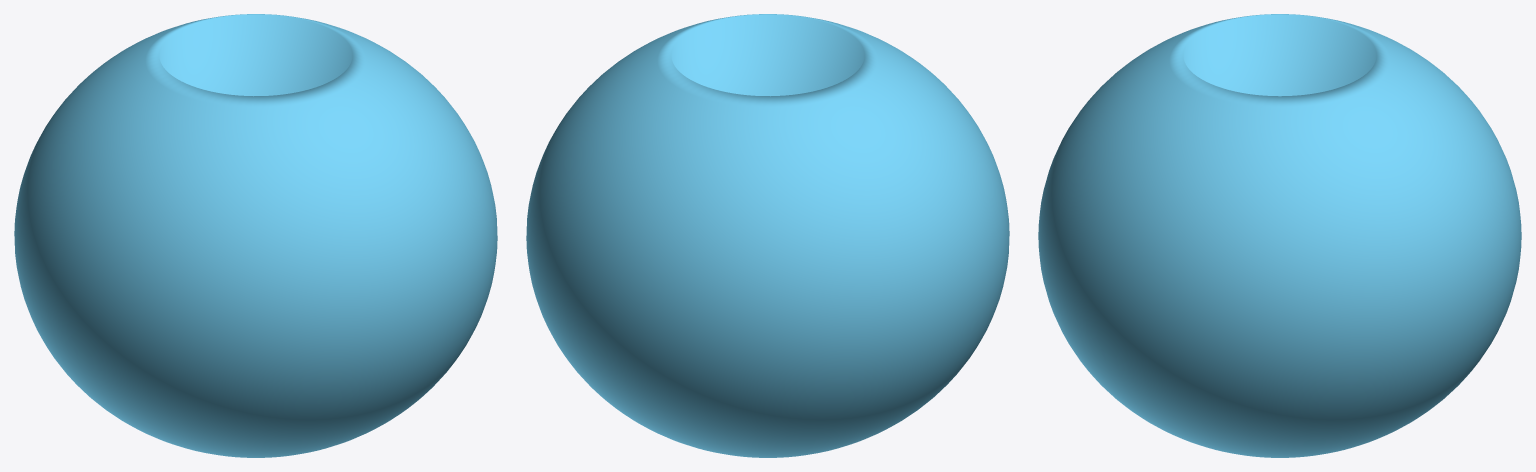
The model's file is spacer-307-glass.glb.
3 renders of one model, left to right at view 1: azimuth 30°, elevation 25°; view 2: azimuth 150°, elevation 25°; view 3: azimuth 270°, elevation 25°, orthographic.
Visible parts, largest first — view 1: Spacer with through bore.006; view 2: Spacer with through bore.006; view 3: Spacer with through bore.006.
Boxes of the visible parts, bbox=[...] form: Spacer with through bore.006: bbox=[14, 14, 497, 457]; Spacer with through bore.006: bbox=[526, 14, 1009, 457]; Spacer with through bore.006: bbox=[1038, 14, 1521, 457].
Bounding box in the file's own units: 0.002 × 0.00165 × 0.002.
